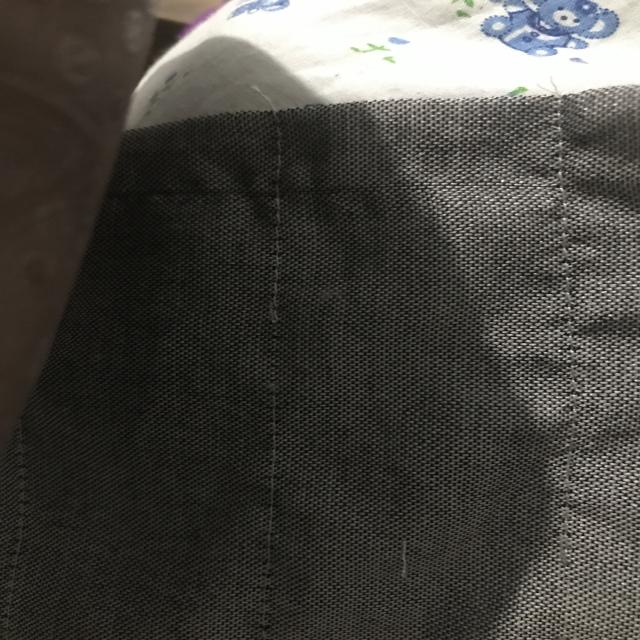broken: (254, 295, 302, 411)
good: (261, 440, 285, 529)
